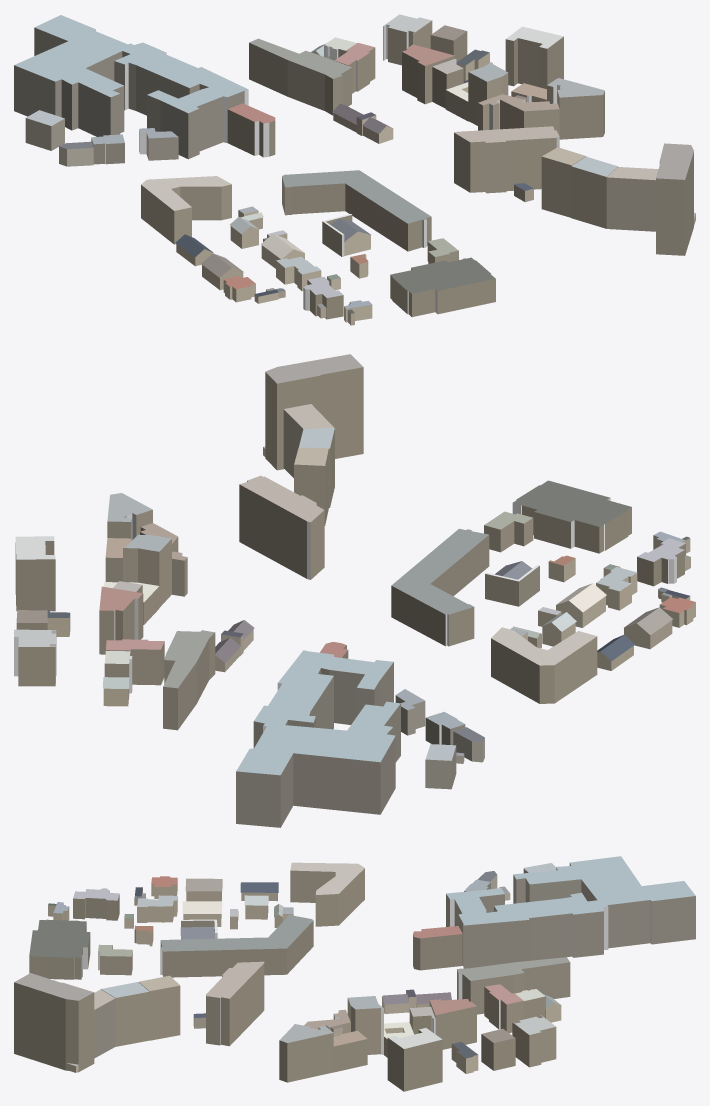
3 views of the same model, one above another, from view 1: azimuth 30°, elevation 25°; view 2: azimuth 150°, elevation 25°; view 3: azimuth 270°, elevation 25° (orthographic). The views are drawn at different scales.
Visible parts, largest first — view 1: tuile; view 2: tuile; view 3: tuile.
Part boxes in pixels (x1,y1,x2,y2): tuile: (14, 14, 695, 325); tuile: (14, 354, 695, 827); tuile: (14, 856, 695, 1091).
Bounding box in the file's own units: 242 × 43.11 × 327.
